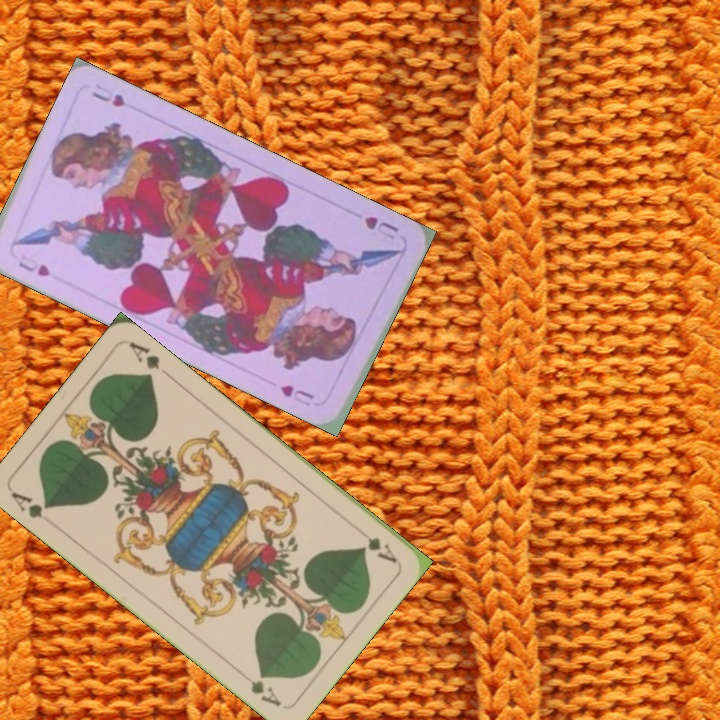GA: (352, 522, 400, 566), (7, 487, 55, 521)
HU: (360, 212, 402, 242), (13, 250, 53, 279)
